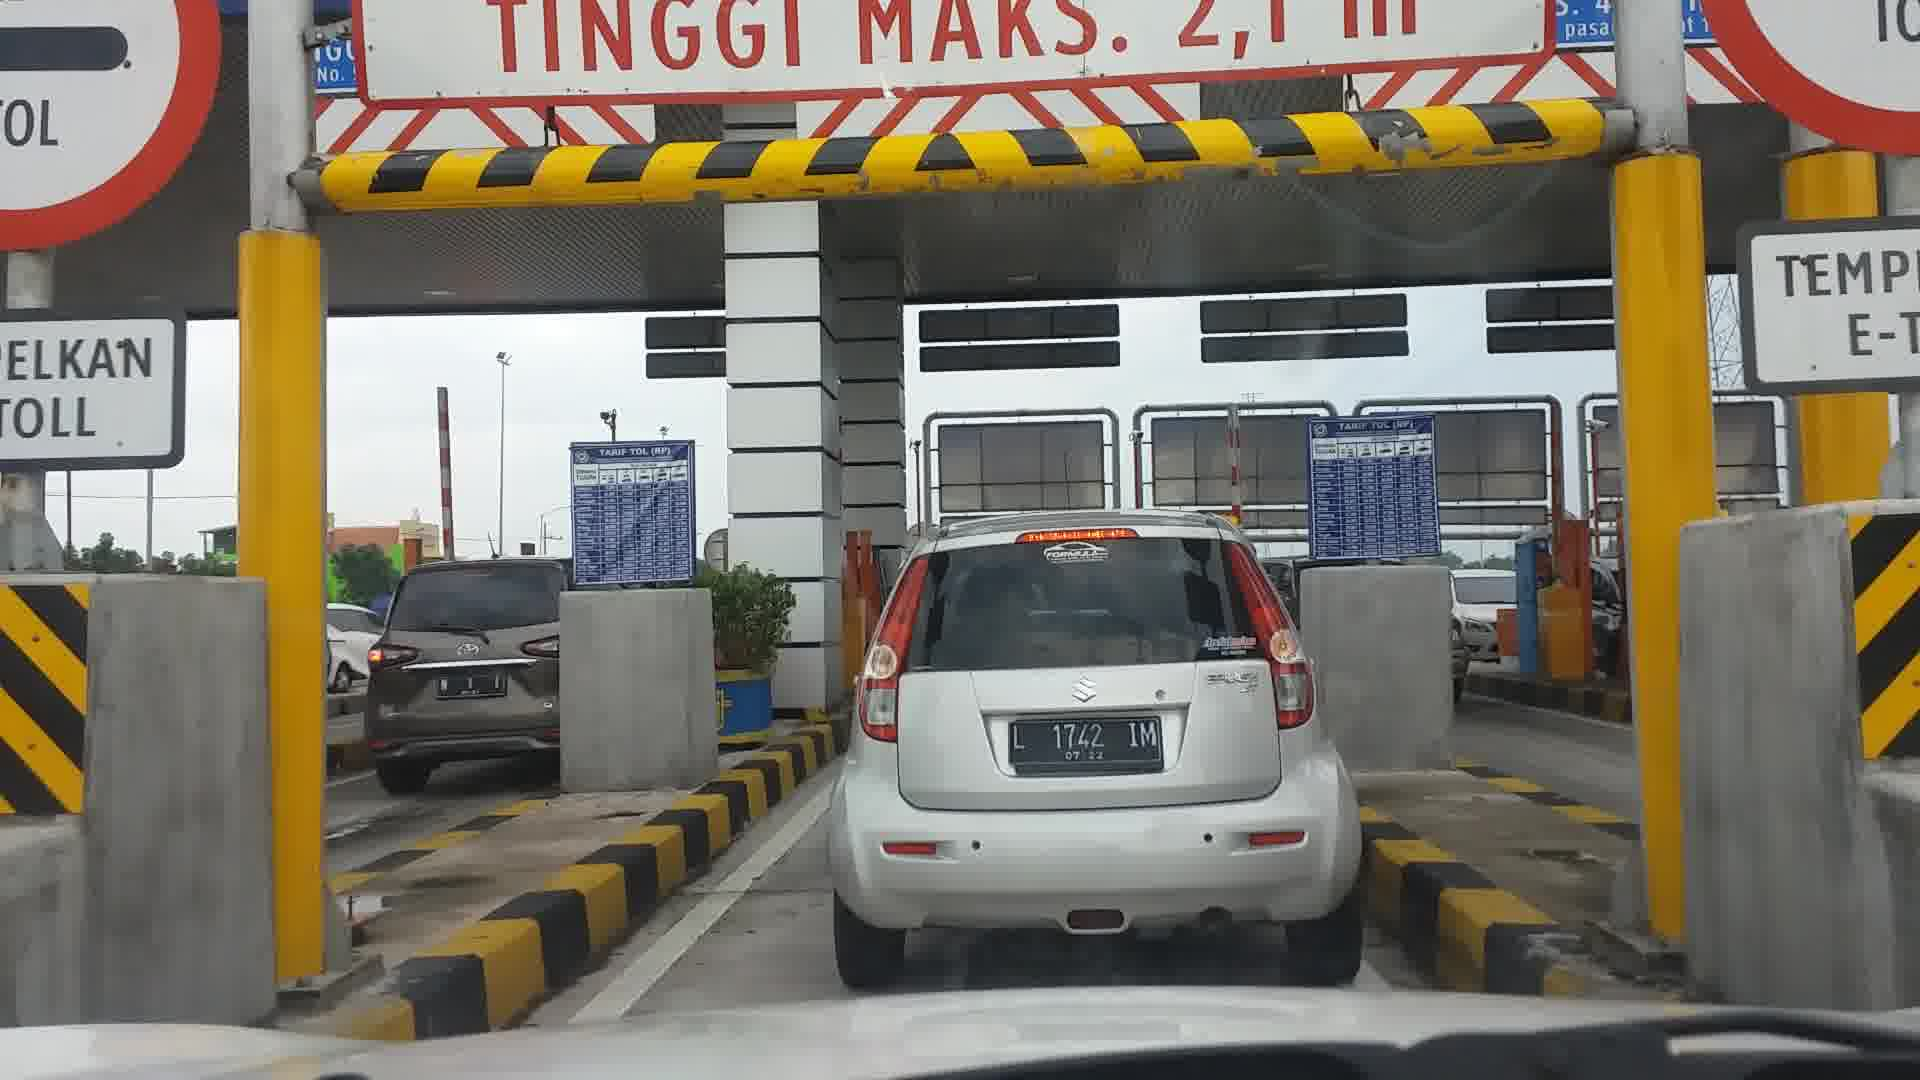plate_positive: (1009, 719, 1163, 775)
